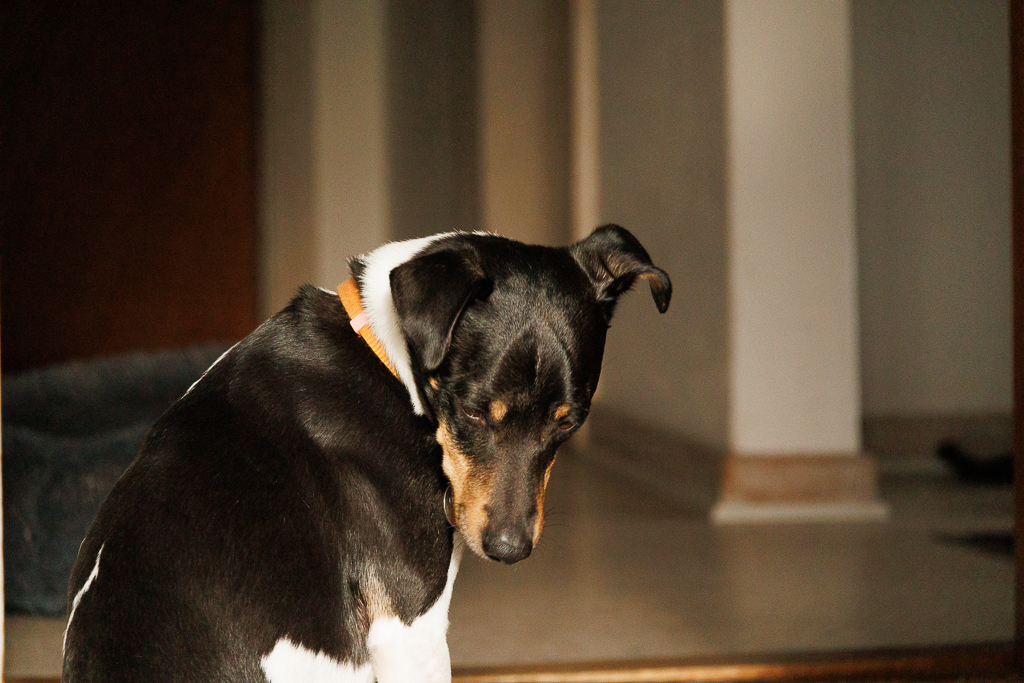Dog: (52, 209, 681, 683)
